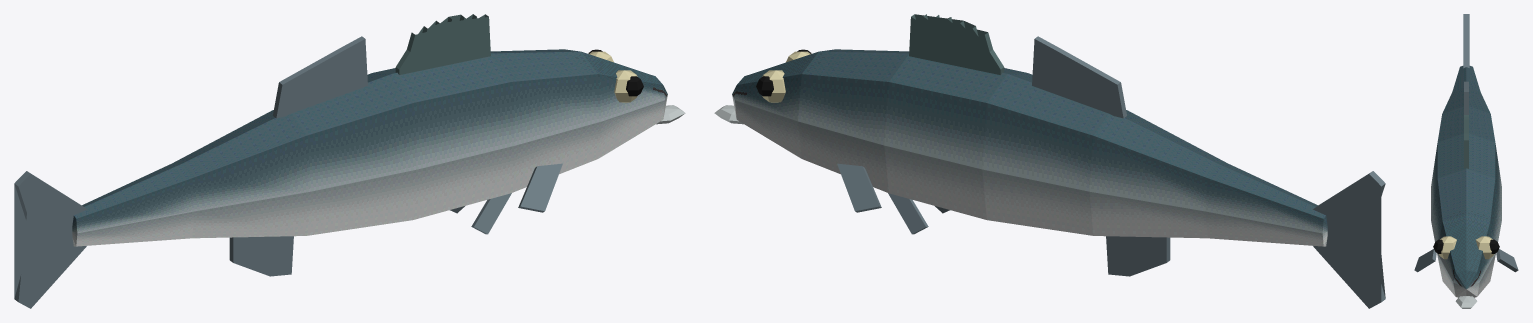
Rendered from sea_bass.glb.
3 renders of one model, left to right at view 1: azimuth 30°, elevation 25°; view 2: azimuth 150°, elevation 25°; view 3: azimuth 270°, elevation 25°, orthographic. The views are drawn at different scales.
Visible parts, largest first — view 1: Fish_sea_bass; view 2: Fish_sea_bass; view 3: Fish_sea_bass.
Boxes of the visible parts, x1=… form: Fish_sea_bass: x1=14, y1=14, x2=685, y2=308; Fish_sea_bass: x1=714, y1=14, x2=1385, y2=308; Fish_sea_bass: x1=1414, y1=14, x2=1518, y2=308.
Size of the model in its own units: 1.08 by 0.3384 by 0.2079.
Materials: 5 (1 with a texture image).
